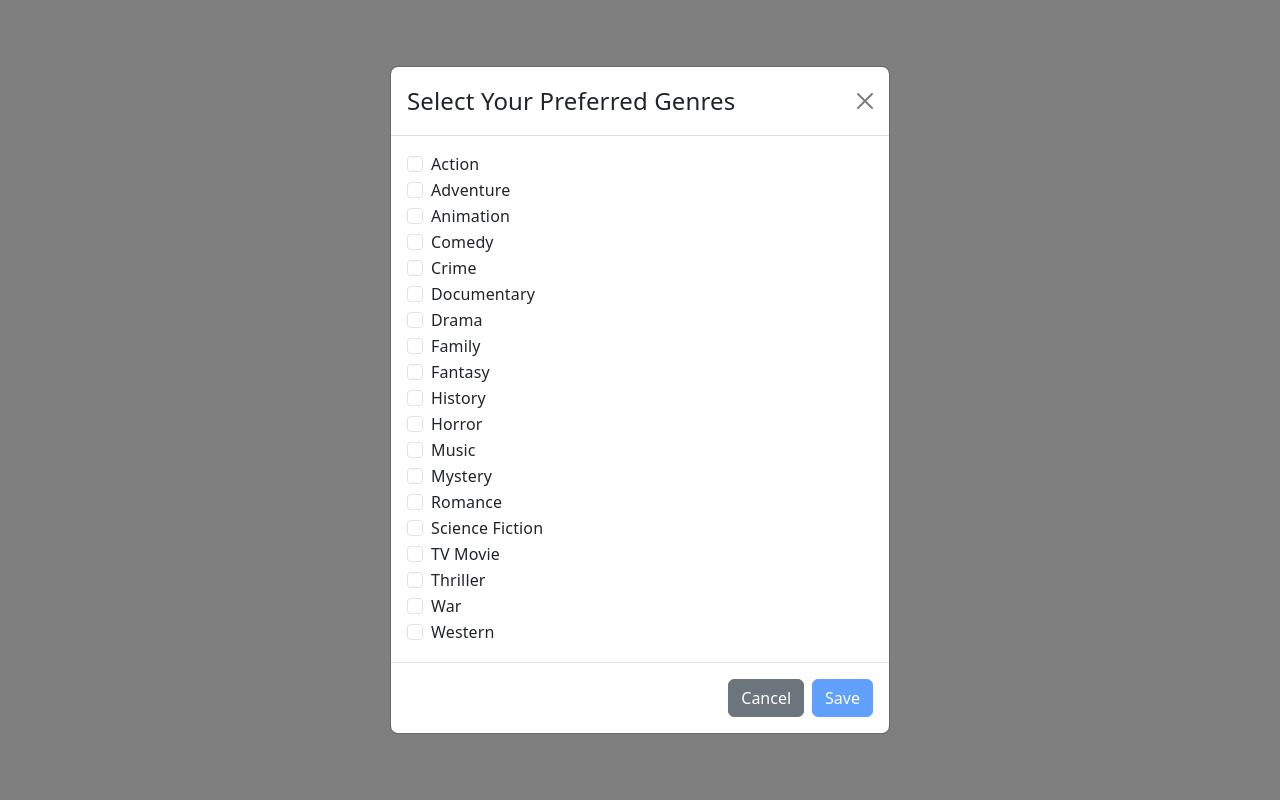
Test case: GenreSelectorPopup Component › Save button enabled/disabled based on selected genres
This screenshot has width=1280, height=800.
Expected: the button "Save" is disabled, [812,679,873,717]
Click the checkbox labelled "Action": (415, 164) [407,156,423,172]
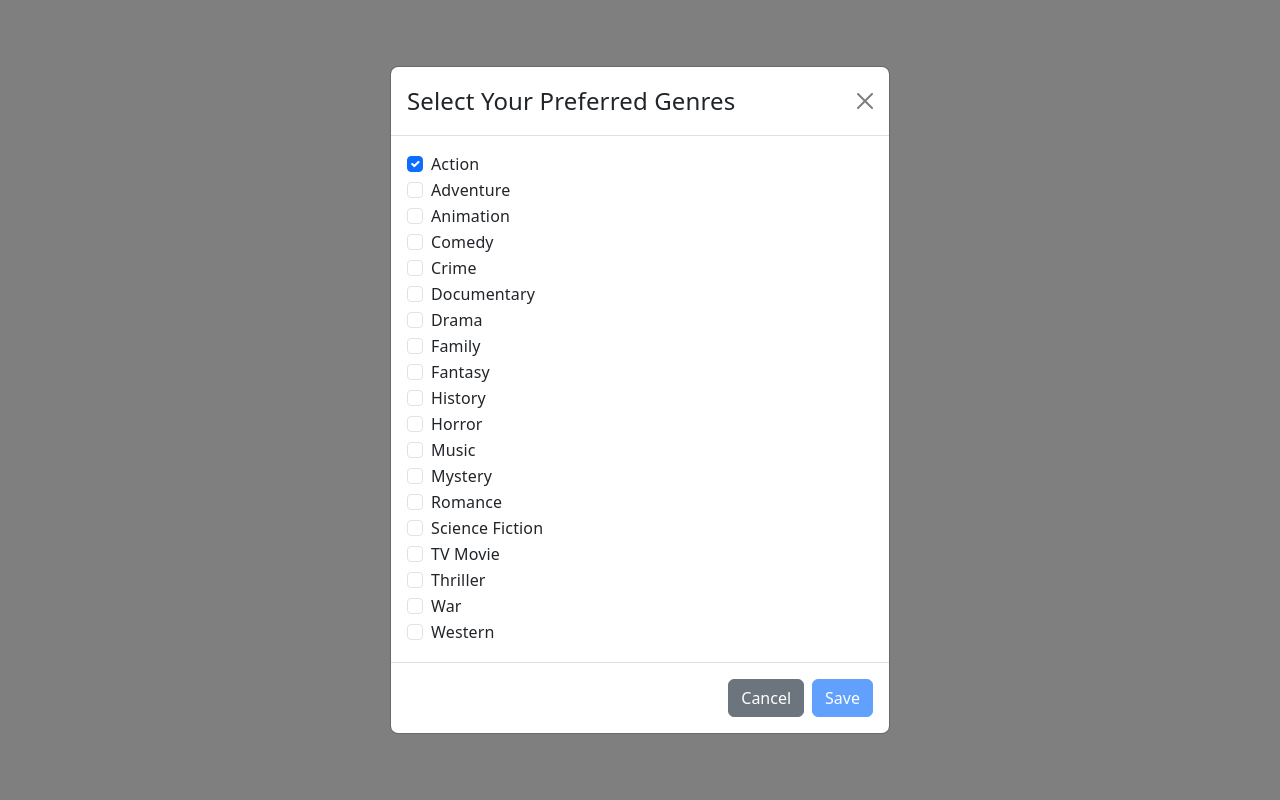
Click the checkbox labelled "Adventure": (415, 190) [407,182,423,198]
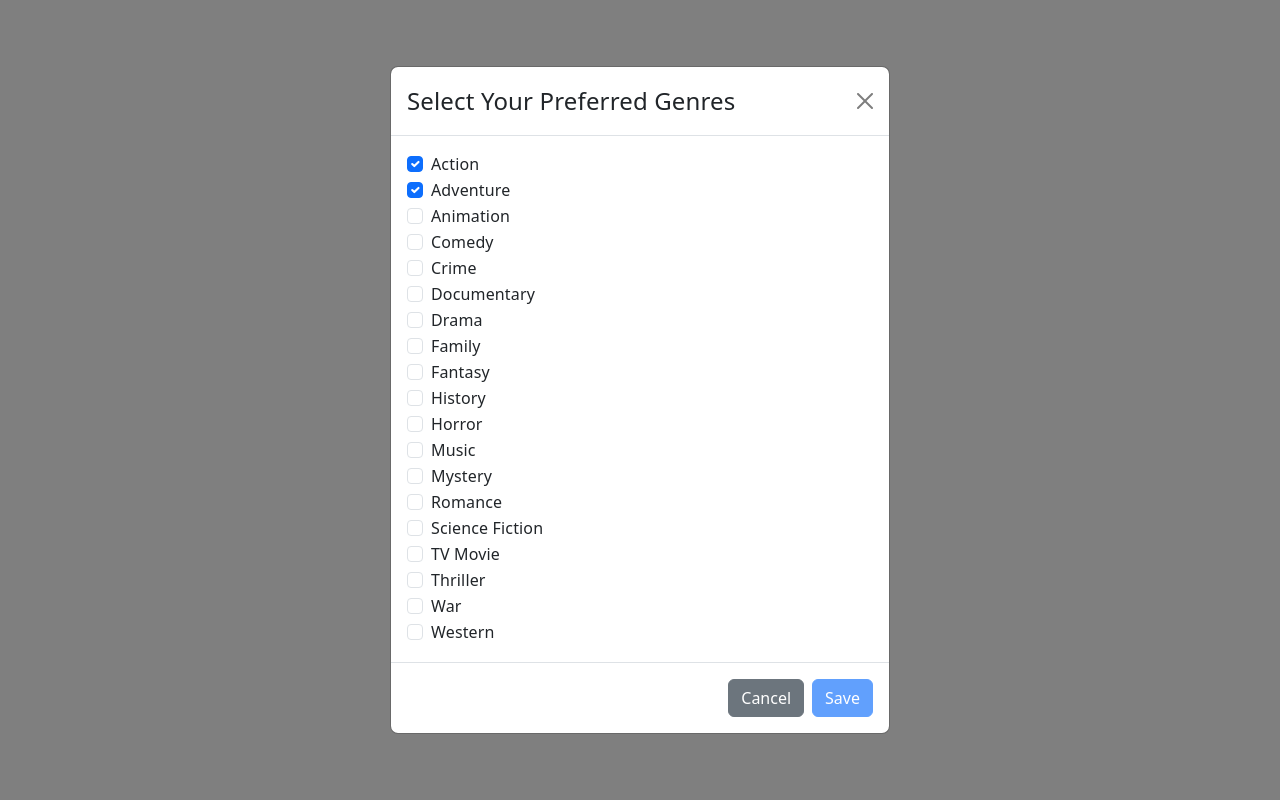
Click the checkbox labelled "Animation": (415, 216) [407,208,423,224]
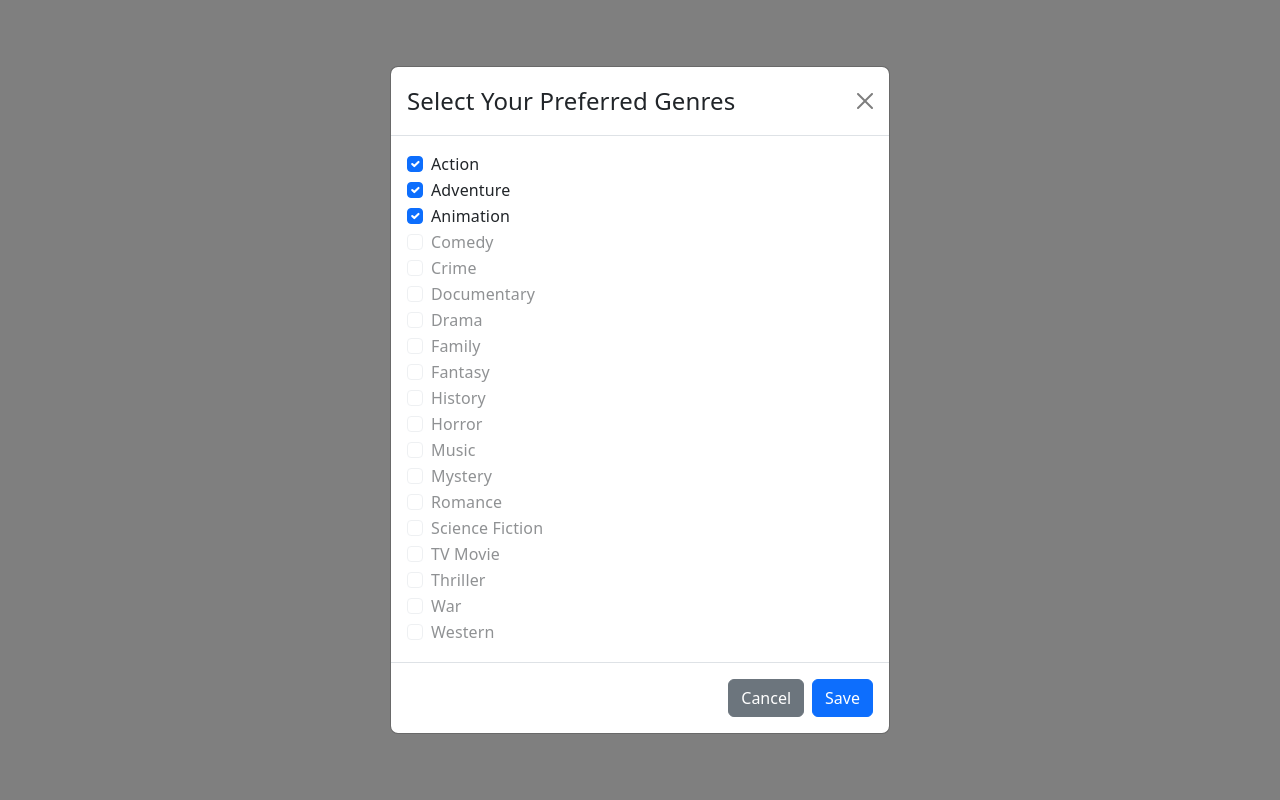
Result: the button "Save" is enabled at [812,679,873,717]
